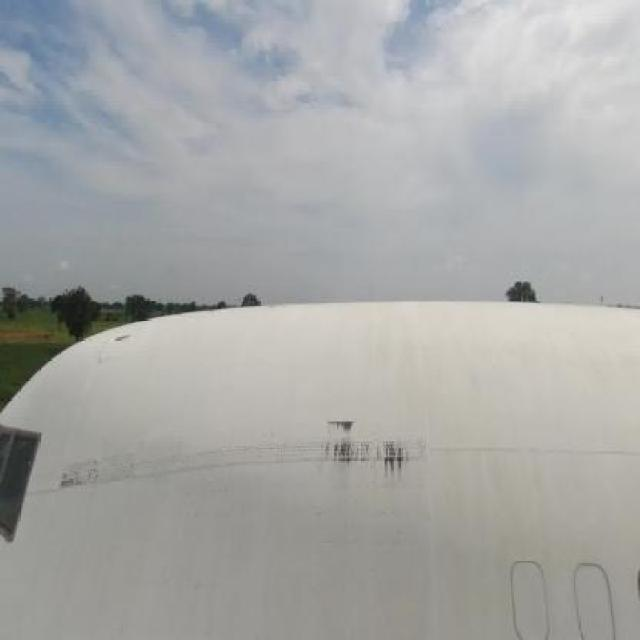Rust: (310, 399, 412, 486)
Scartch: (51, 461, 108, 496)
